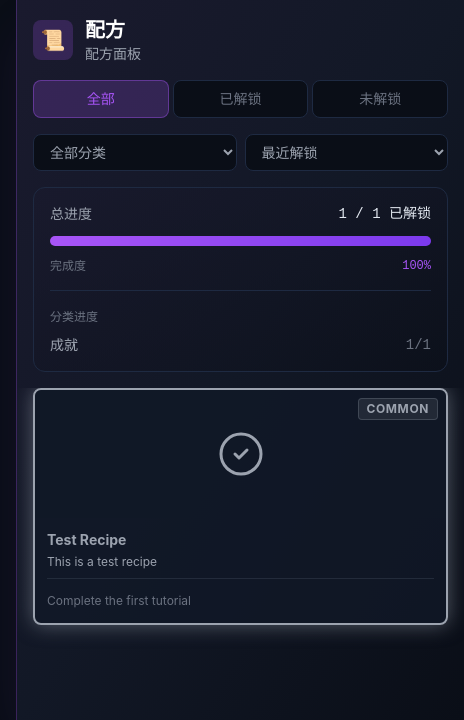
Test: RecipePanel Component › AC-182-002: RecipePanel filtering works › empty state displays when no recipes match filter
Note: Click locked tab - should show empty state
Click the button with test id "recipe-tab-locked".
click(380, 99)  # box left=312, top=80, right=448, bottom=118
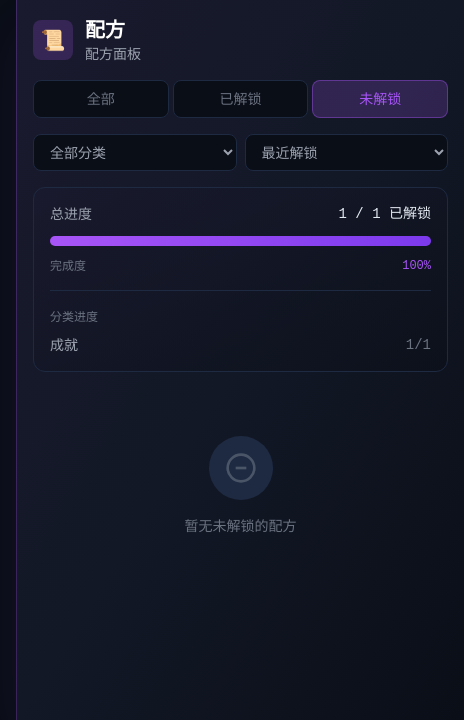
Check: the element with test id "recipe-empty-state" is shown, box left=184, top=436, right=296, bottom=534
